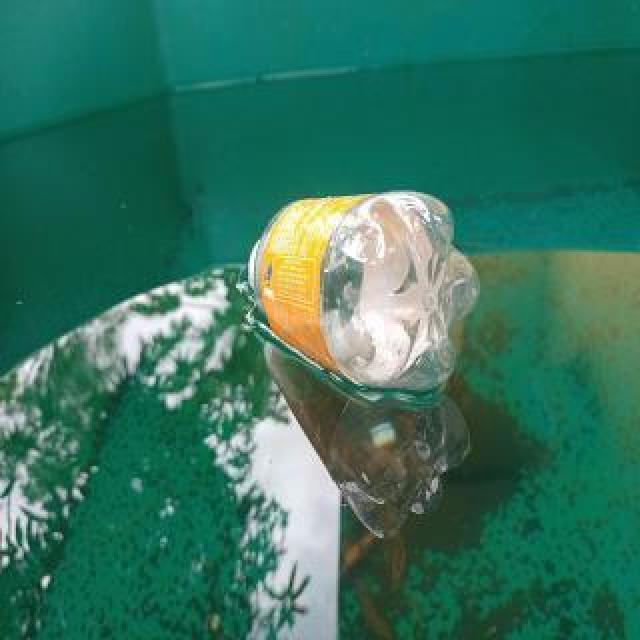bottle: (245, 187, 483, 397)
